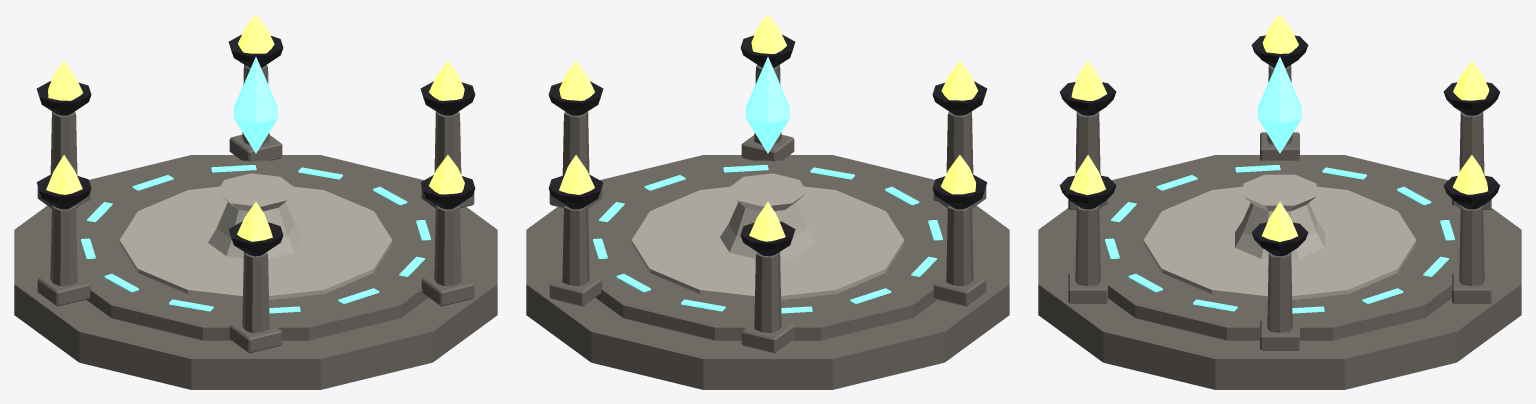
The model's file is santuario.fbx.
3 renders of one model, left to right at view 1: azimuth 30°, elevation 25°; view 2: azimuth 150°, elevation 25°; view 3: azimuth 270°, elevation 25°, orthographic.
Visible parts, largest first — view 1: santuario; view 2: santuario; view 3: santuario.
Boxes of the visible parts, x1,y1,x2,y2 form: santuario: [14, 14, 497, 389]; santuario: [526, 14, 1009, 389]; santuario: [1038, 14, 1521, 389].
Size of the model in its own units: 8.8 by 4.5 by 8.5.
